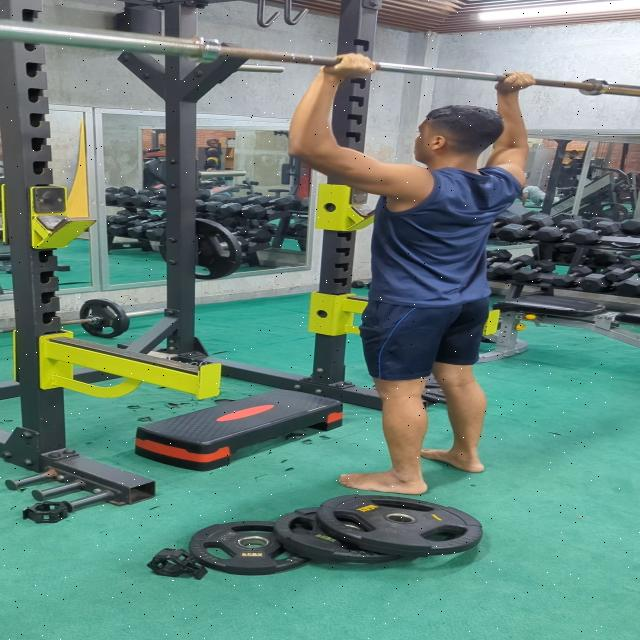Normal_OverheadPress: (282, 52, 554, 495)
